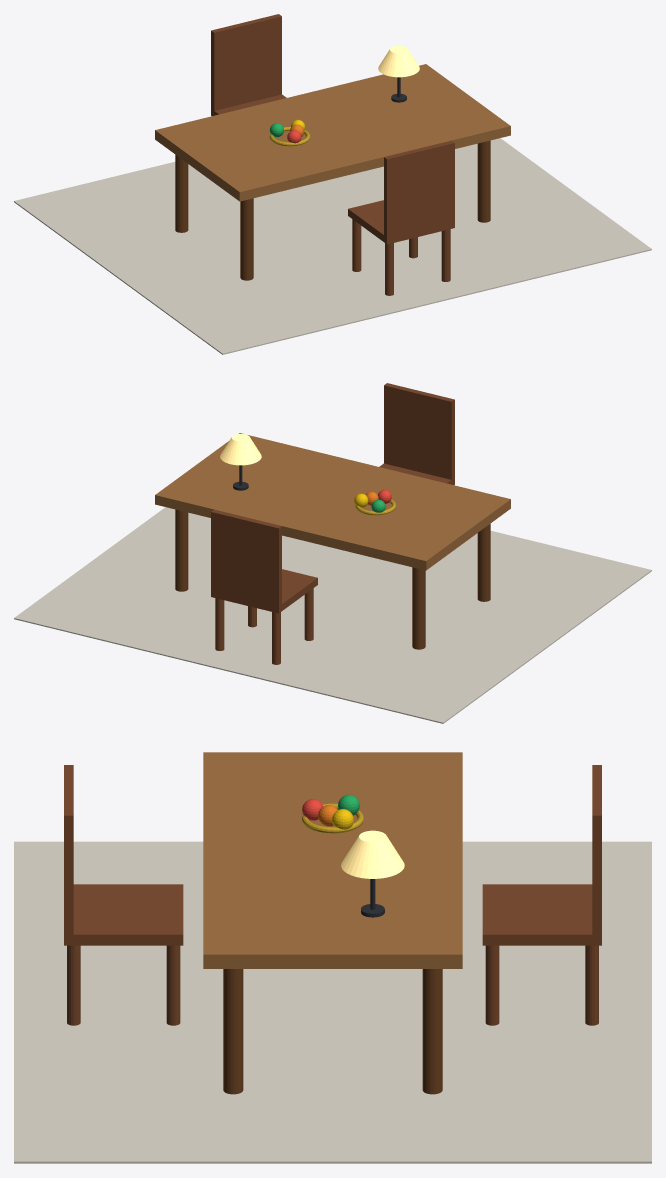
The model's file is ish02.glb.
3 renders of one model, top to bottom at view 1: azimuth 30°, elevation 25°; view 2: azimuth 150°, elevation 25°; view 3: azimuth 270°, elevation 25°, orthographic. The views are drawn at different scales.
Parts seen in each view (by area): view 1: Pol, Stol_Qopqoq, Stul_nusxa, Stul, Stol_Oyoq_-1-1, Stol_Oyoq_1-1, Stol_Oyoq_-11, Chiroq_abajur; view 2: Pol, Stol_Qopqoq, Stul, Stul_nusxa, Stol_Oyoq_-11, Stol_Oyoq_11, Stol_Oyoq_-1-1, Chiroq_abajur; view 3: Pol, Stol_Qopqoq, Stul, Stul_nusxa, Stol_Oyoq_1-1, Stol_Oyoq_11, Chiroq_abajur.
Part boxes in pixels (x1,y1,x2,y2): Pol: (14, 138, 651, 354); Stol_Qopqoq: (155, 64, 510, 201); Stul_nusxa: (348, 140, 454, 295); Stul: (211, 14, 286, 115); Stol_Oyoq_-1-1: (240, 198, 253, 280); Stol_Oyoq_1-1: (477, 140, 490, 222); Stol_Oyoq_-11: (175, 154, 188, 232); Chiroq_abajur: (378, 45, 419, 77); Pol: (14, 507, 651, 723); Stol_Qopqoq: (155, 433, 510, 570); Stul: (211, 509, 317, 664); Stul_nusxa: (379, 383, 454, 484); Stol_Oyoq_-11: (412, 567, 425, 649); Stol_Oyoq_11: (175, 509, 188, 591); Stol_Oyoq_-1-1: (477, 523, 490, 601); Chiroq_abajur: (220, 434, 261, 465); Pol: (14, 841, 651, 1163); Stol_Qopqoq: (203, 752, 462, 968); Stul: (482, 765, 601, 1025); Stul_nusxa: (64, 765, 183, 1025); Stol_Oyoq_1-1: (223, 969, 243, 1094); Stol_Oyoq_11: (422, 969, 442, 1094); Chiroq_abajur: (341, 830, 404, 878).
Size of the model in its own units: 3.8 by 1.25 by 3.2.
